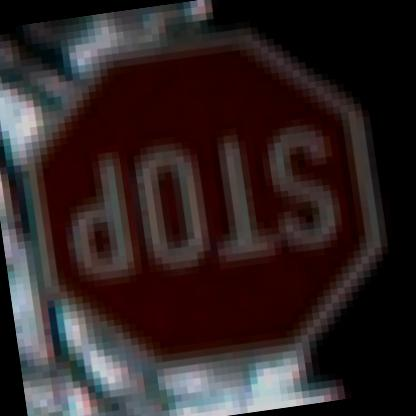stop: (3, 12, 415, 373)
